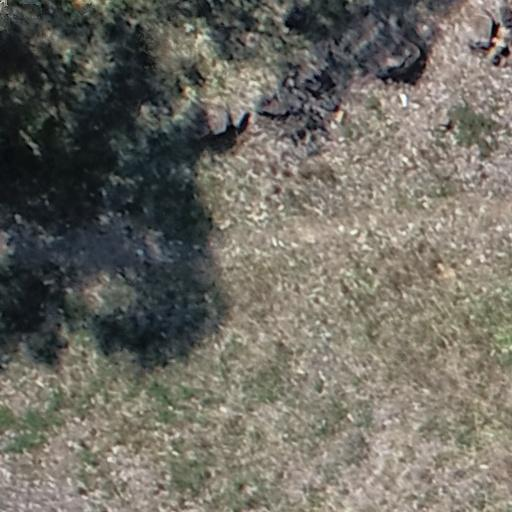stone: (205, 99, 229, 136), (471, 12, 491, 49), (495, 0, 512, 30), (487, 40, 506, 66), (233, 111, 251, 129), (438, 118, 450, 132)
